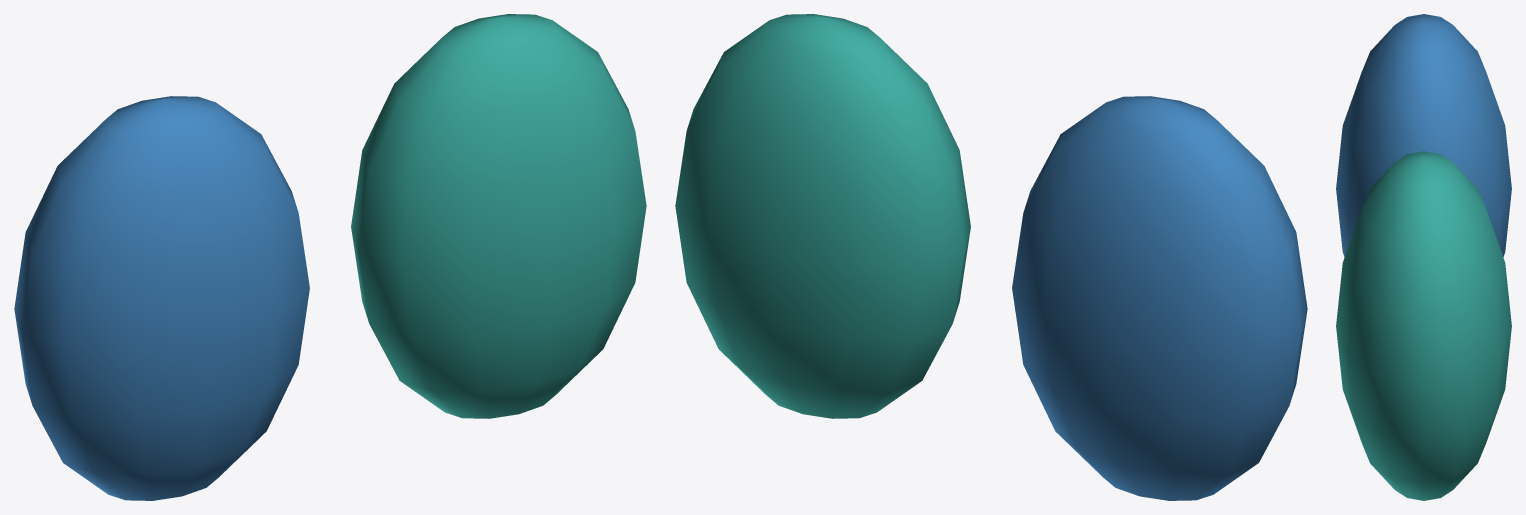
The model's file is morph-b.glb.
3 views of the same model, side by side, from view 1: azimuth 30°, elevation 25°; view 2: azimuth 150°, elevation 25°; view 3: azimuth 270°, elevation 25° (orthographic). The views are drawn at different scales.
Visible parts, largest first — view 1: cortex.left, cortex.right; view 2: cortex.left, cortex.right; view 3: cortex.right, cortex.left.
Boxes of the visible parts, x1,y1,x2,y2 form: cortex.left: [14, 96, 309, 500]; cortex.right: [351, 14, 646, 418]; cortex.left: [1012, 96, 1307, 500]; cortex.right: [675, 14, 970, 418]; cortex.right: [1336, 151, 1511, 500]; cortex.left: [1336, 14, 1511, 256].
Bounding box in the file's own units: 4.4 × 2.7 × 1.3.
